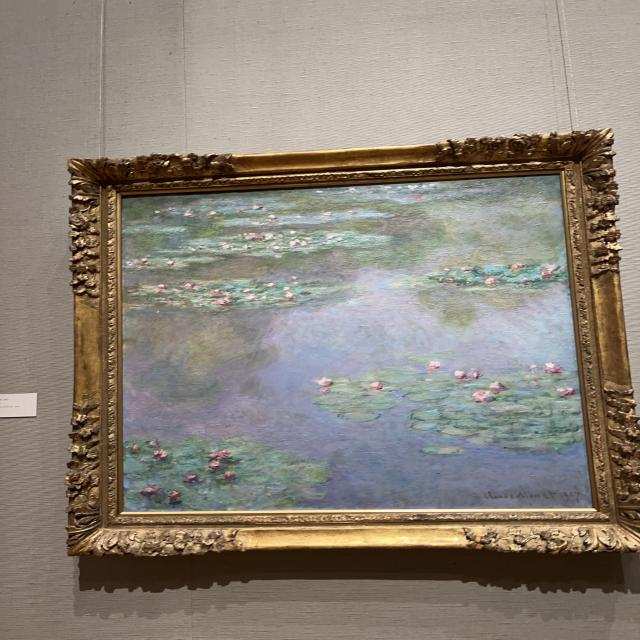lilies: (126, 179, 589, 507)
